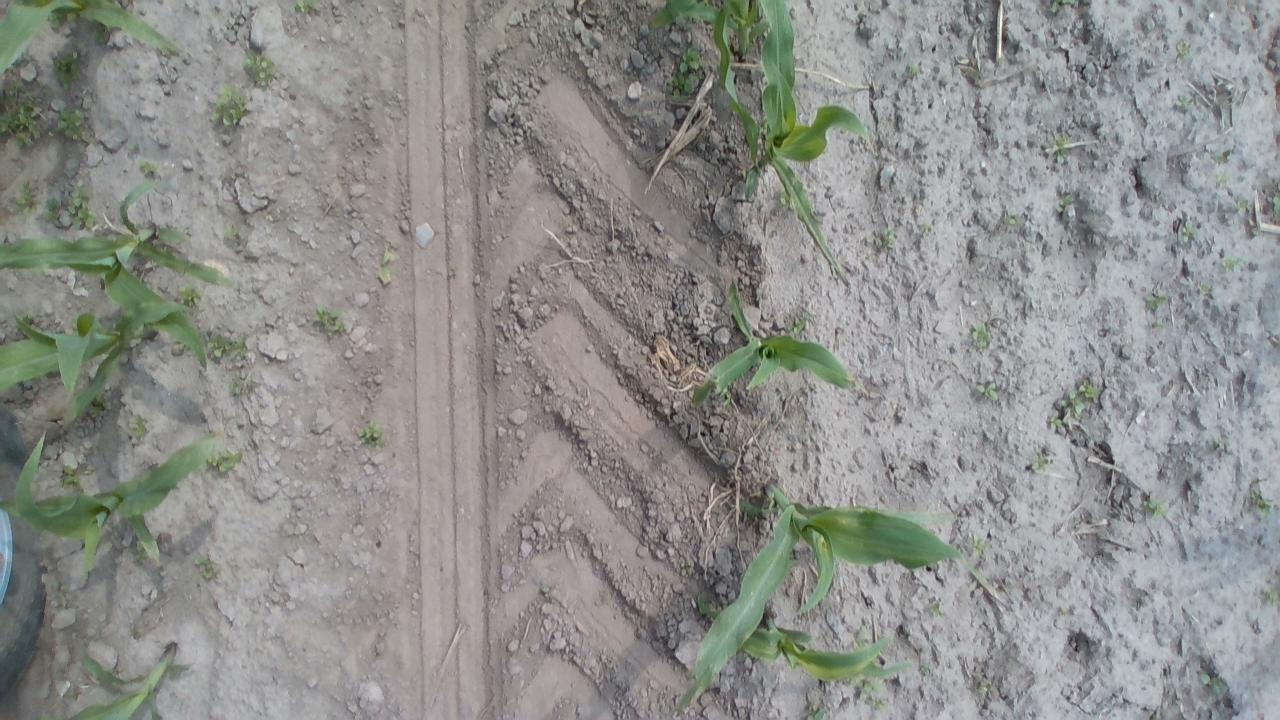Maize: (684, 480, 992, 701), (0, 172, 236, 368), (716, 0, 874, 279), (0, 429, 222, 583), (0, 300, 197, 436), (644, 0, 790, 179), (692, 283, 859, 412), (696, 594, 908, 684), (0, 0, 192, 84), (47, 637, 186, 720)
Weeds: (0, 80, 44, 148), (670, 45, 706, 99), (207, 84, 250, 128), (59, 186, 100, 230), (202, 328, 250, 363), (1060, 378, 1100, 419), (51, 44, 85, 90), (850, 673, 890, 712), (242, 47, 278, 88), (52, 107, 88, 142), (741, 489, 786, 517), (310, 304, 350, 335), (202, 447, 243, 477), (9, 180, 39, 215), (374, 244, 398, 287), (1048, 128, 1074, 165), (1196, 668, 1226, 698), (356, 419, 385, 450), (192, 554, 222, 582), (968, 318, 994, 350), (176, 284, 204, 308), (230, 371, 254, 398), (128, 412, 150, 441), (1247, 490, 1271, 516), (874, 226, 900, 250), (48, 577, 68, 607), (976, 378, 1002, 401), (1142, 495, 1168, 518), (224, 220, 246, 246), (1145, 288, 1169, 311), (969, 535, 993, 557), (135, 157, 161, 177), (60, 467, 83, 489), (88, 391, 108, 416), (1030, 451, 1052, 473), (798, 702, 828, 718), (292, 0, 324, 15), (1055, 192, 1076, 214), (1221, 252, 1242, 274), (1178, 221, 1198, 244), (1048, 0, 1082, 13), (789, 315, 811, 335), (41, 197, 58, 222), (999, 207, 1019, 227), (134, 544, 153, 565), (1212, 172, 1234, 190), (1174, 92, 1196, 110), (1196, 278, 1214, 298), (1048, 412, 1068, 430), (1174, 42, 1193, 60), (1262, 584, 1278, 605), (926, 600, 944, 618), (904, 60, 921, 79), (778, 184, 792, 206), (1215, 148, 1232, 166), (853, 632, 870, 650), (90, 25, 106, 44), (48, 12, 65, 28), (1236, 199, 1251, 215), (720, 386, 731, 406), (757, 118, 768, 138), (14, 311, 30, 324), (1208, 439, 1224, 452), (173, 338, 189, 350), (540, 584, 554, 597), (974, 684, 988, 696), (66, 12, 80, 24), (920, 663, 931, 676), (1272, 196, 1280, 213), (1152, 320, 1164, 329), (684, 562, 693, 572), (923, 222, 934, 230), (128, 144, 138, 150), (664, 23, 670, 30), (1021, 246, 1027, 252)
